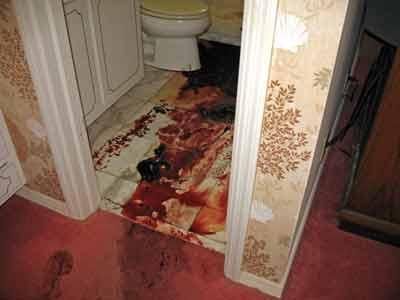Fire: (94, 40, 240, 252), (119, 224, 193, 300)
